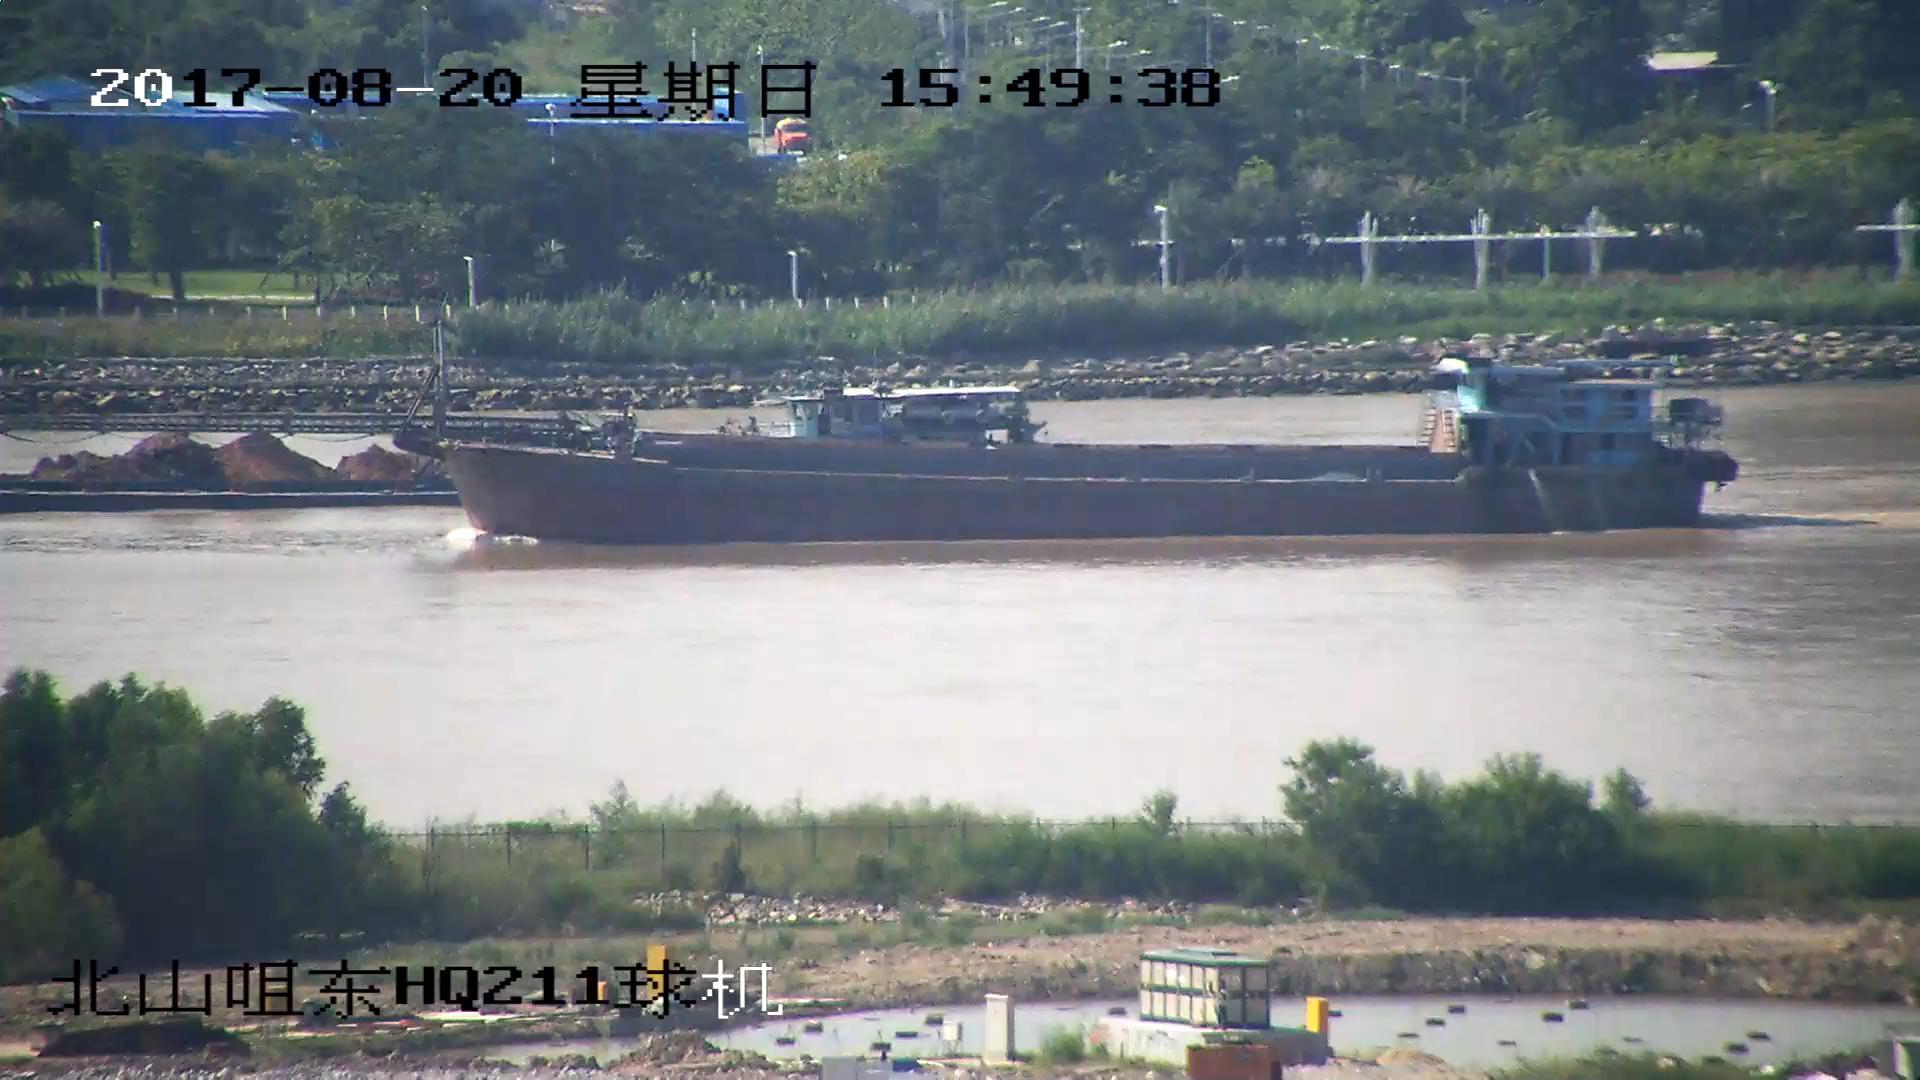Ship: (62, 351, 1741, 542), (3, 381, 1044, 512)
